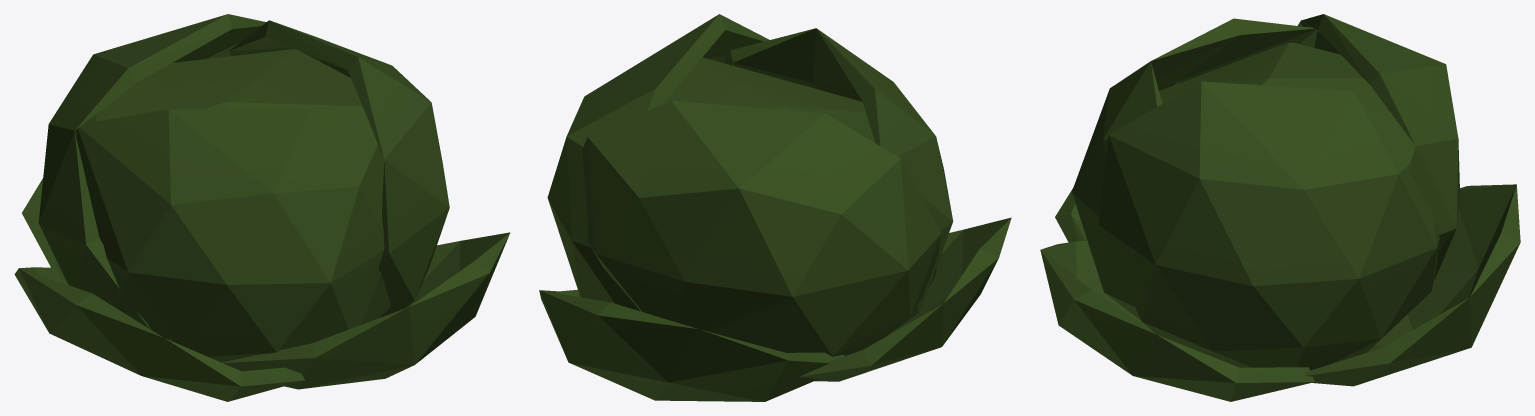
Rendered from Cabbage_04.fbx.
3 views of the same model, side by side, from view 1: azimuth 30°, elevation 25°; view 2: azimuth 150°, elevation 25°; view 3: azimuth 270°, elevation 25° (orthographic).
Parts seen in each view (by area): view 1: Cabbage_04; view 2: Cabbage_04; view 3: Cabbage_04.
Boxes of the visible parts, box(x1,y1,x2,y2) form: Cabbage_04: box(14, 14, 510, 401); Cabbage_04: box(539, 14, 1011, 401); Cabbage_04: box(1040, 14, 1520, 401).
Size of the model in its own units: 0.5348 by 0.3883 by 0.5313.
